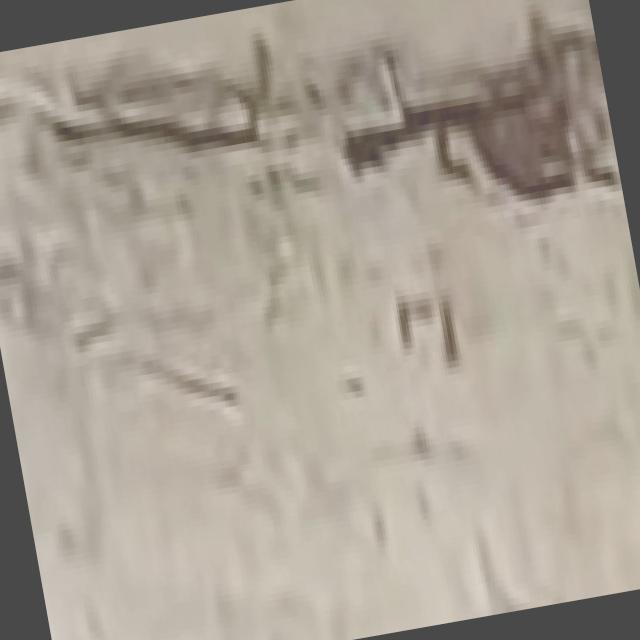crack: (0, 9, 304, 231)
